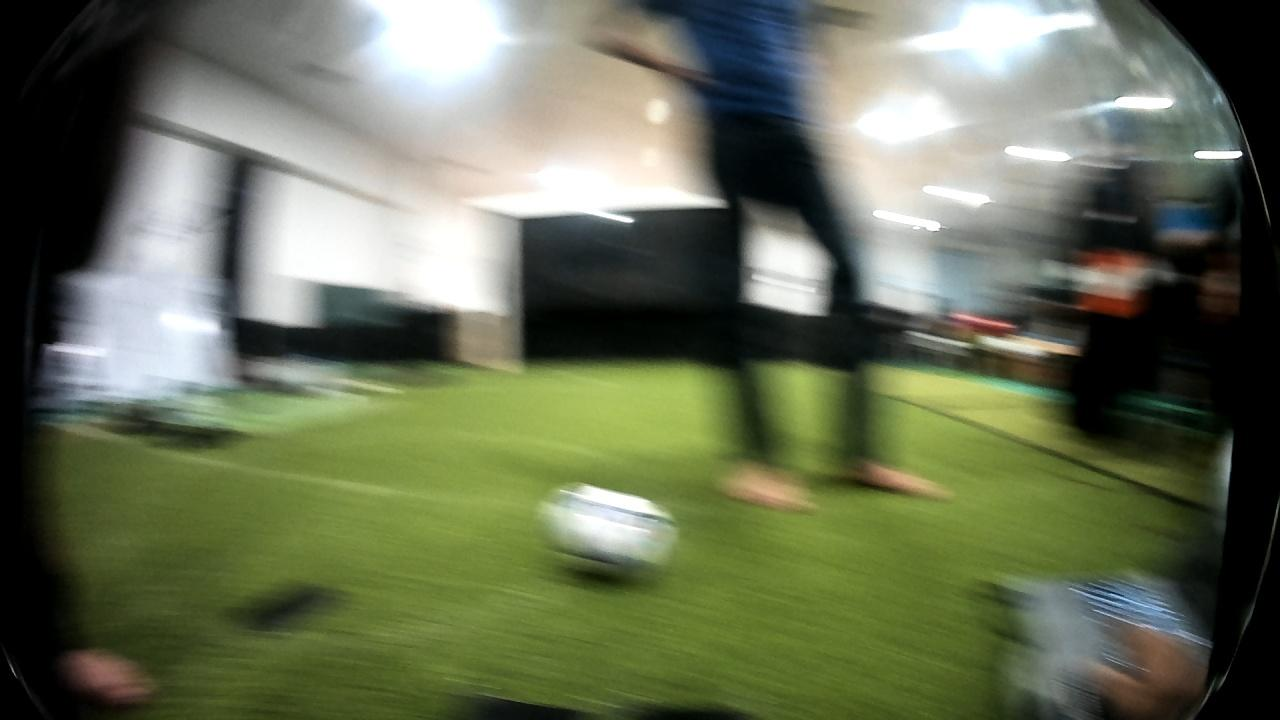ball: (520, 471, 681, 593)
